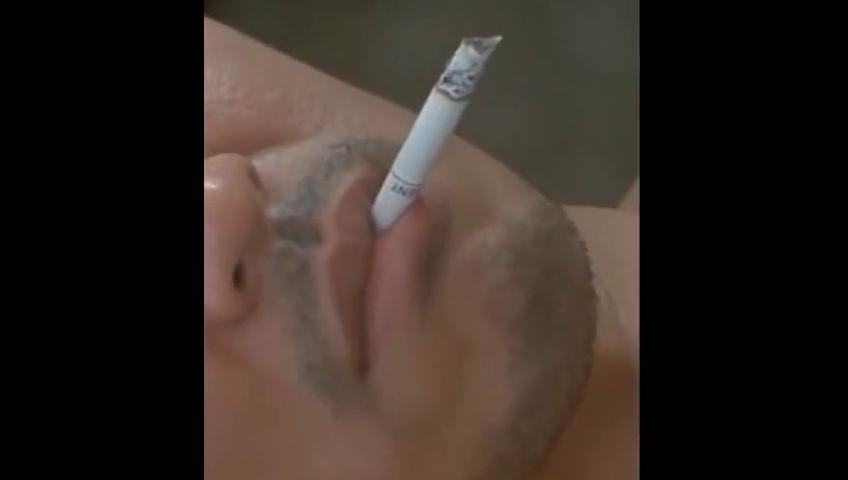Cigarette: (372, 36, 501, 228)
